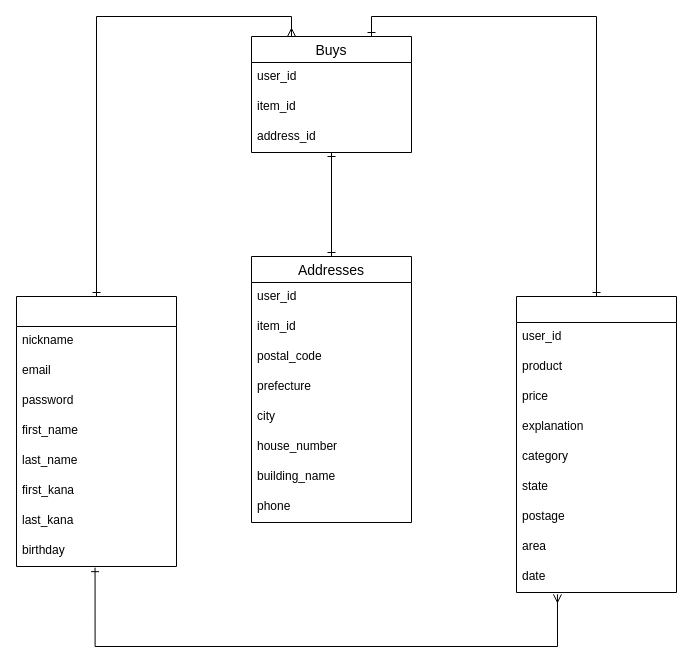
Image size: 693x663. Some labels were removed from this diagram. Each missing label, with the box of its shape:
Items: (516, 296, 676, 592)
Users: (16, 296, 176, 566)
